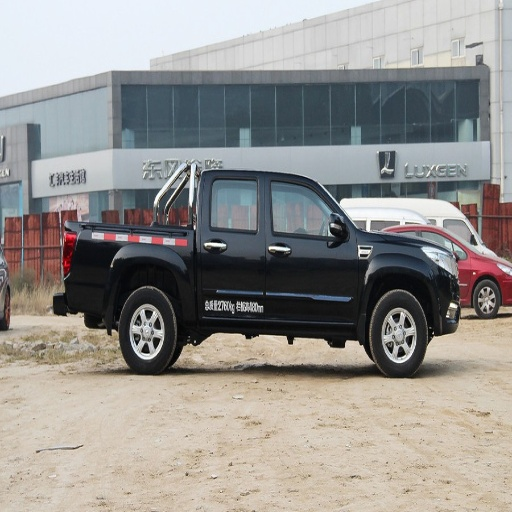back_right_door: (197, 170, 266, 315)
front_right_door: (268, 174, 359, 320)
trunk: (66, 230, 191, 318)
